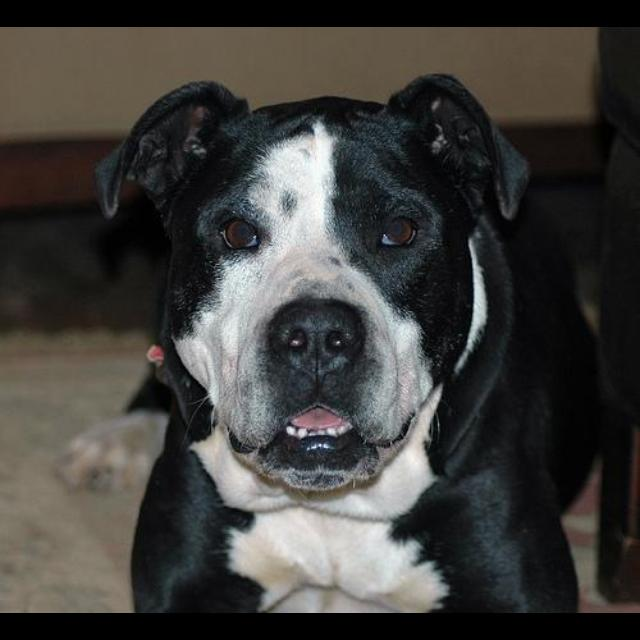amstaff: (59, 72, 636, 613)
